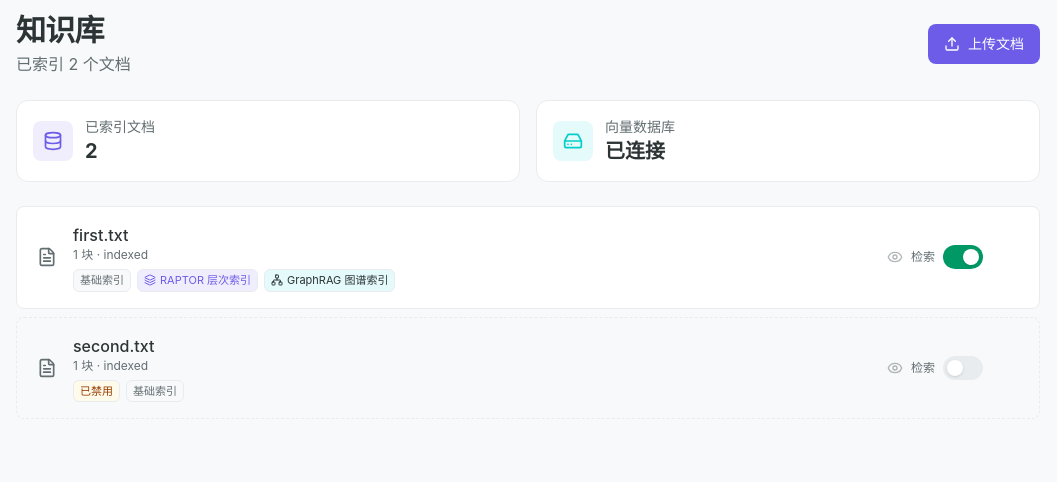
Test case: KnowledgeBasePage › reports document availability update failures
Click the switch named "禁用文档 first.txt" at coordinates (963, 257), box x1=943 y1=245 x2=983 y2=269
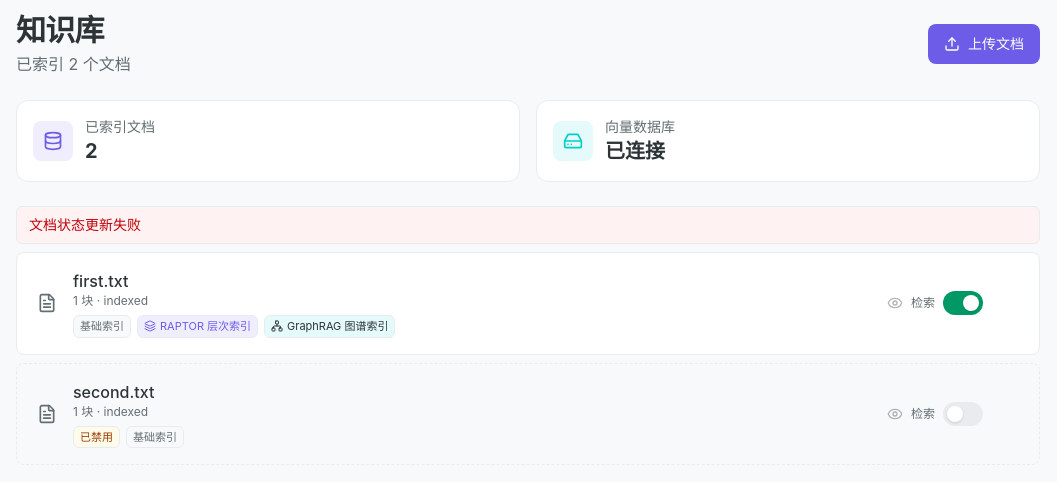
Now the message reads "文档状态更新失败", box x1=29 y1=216 x2=141 y2=233
